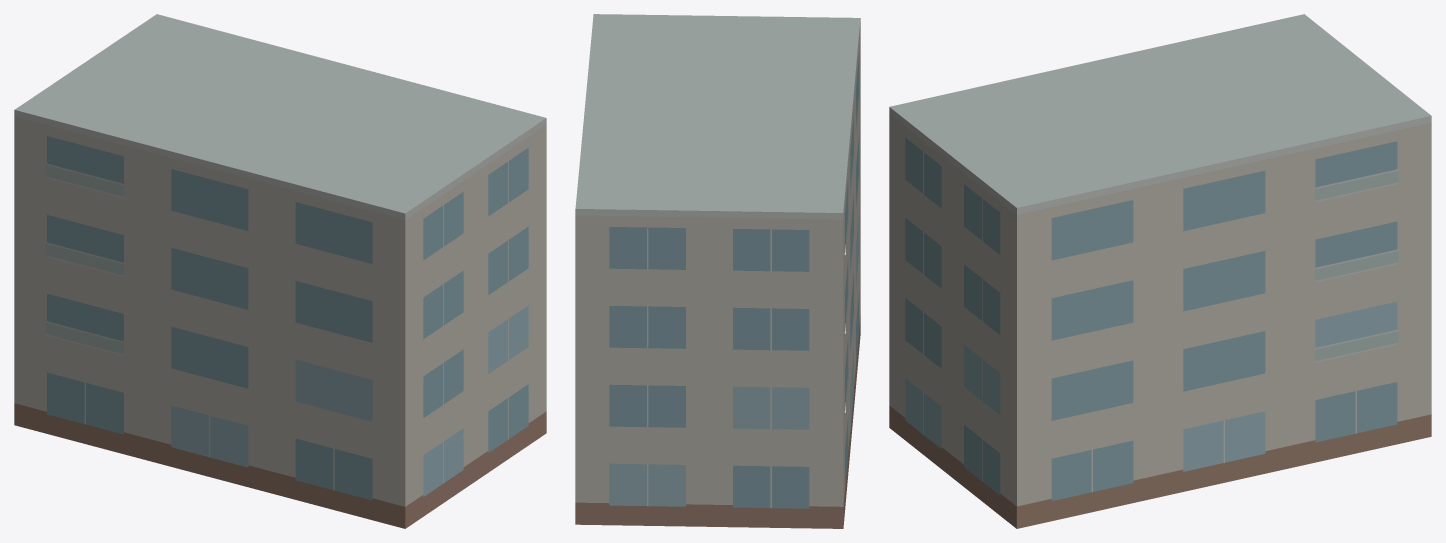
The model's file is survey-upis-32882711.glb.
3 views of the same model, side by side, from view 1: azimuth 30°, elevation 25°; view 2: azimuth 150°, elevation 25°; view 3: azimuth 270°, elevation 25° (orthographic).
Parts seen in each view (by area): view 1: survey-upis-32882711.tmp; view 2: survey-upis-32882711.tmp; view 3: survey-upis-32882711.tmp.
Boxes of the visible parts, bbox=[...] form: survey-upis-32882711.tmp: bbox=[14, 14, 546, 528]; survey-upis-32882711.tmp: bbox=[575, 14, 860, 528]; survey-upis-32882711.tmp: bbox=[889, 14, 1431, 528].
Bounding box in the file's own units: 15.05 × 11.6 × 17.78.
